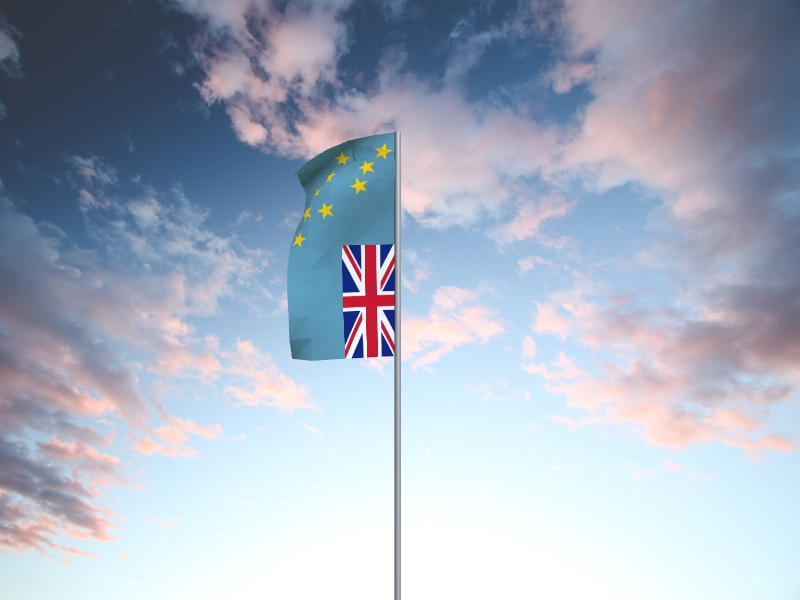tv: (288, 133, 394, 363)
